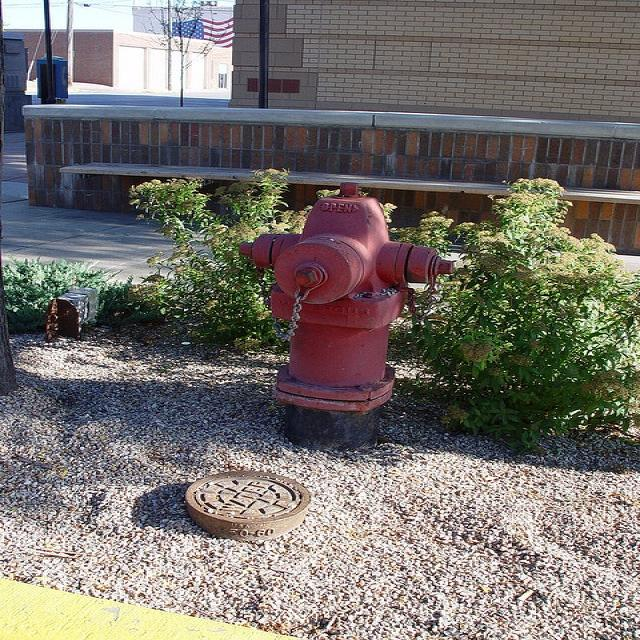fire_hydrant: (240, 181, 456, 439)
